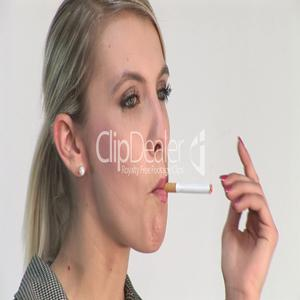cigarette: (164, 180, 213, 195)
